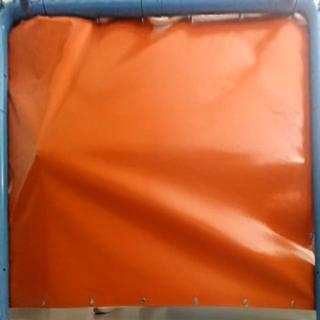Hit-hRxx: (31, 148, 44, 160)
